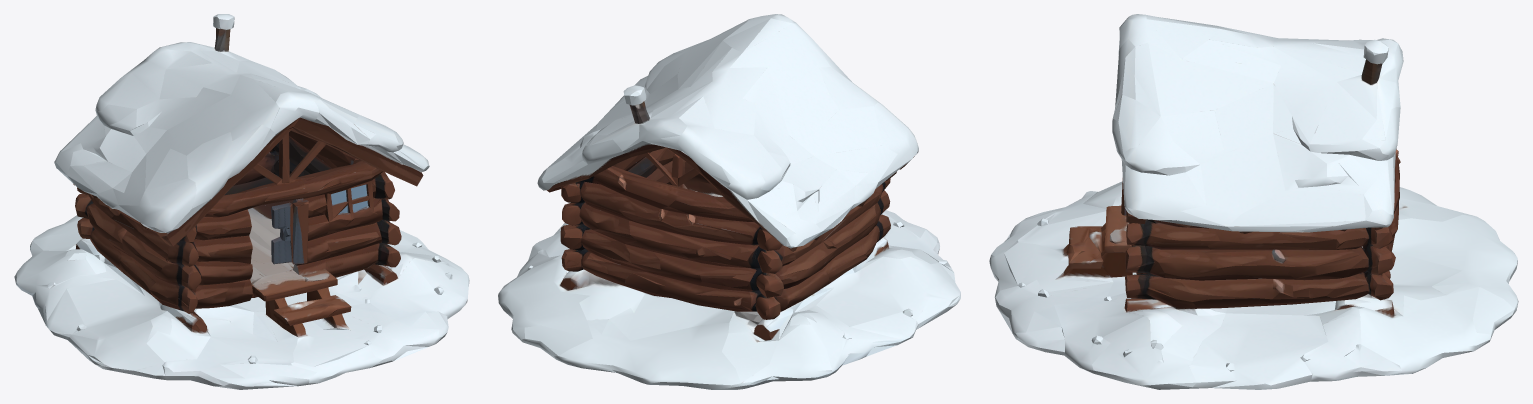
Rendered from ruin_cabin.glb.
The picture shows the model from 3 angles, left to right: view 1: azimuth 30°, elevation 25°; view 2: azimuth 150°, elevation 25°; view 3: azimuth 270°, elevation 25°; orthographic projection. The views are drawn at different scales.
Size of the model in its own units: 1.78 by 1.07 by 1.9.
1 material, 1 textured.
